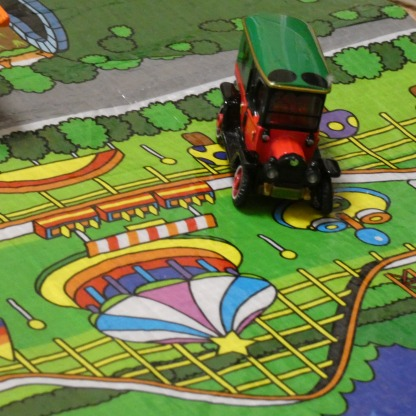car: (217, 9, 341, 217)
